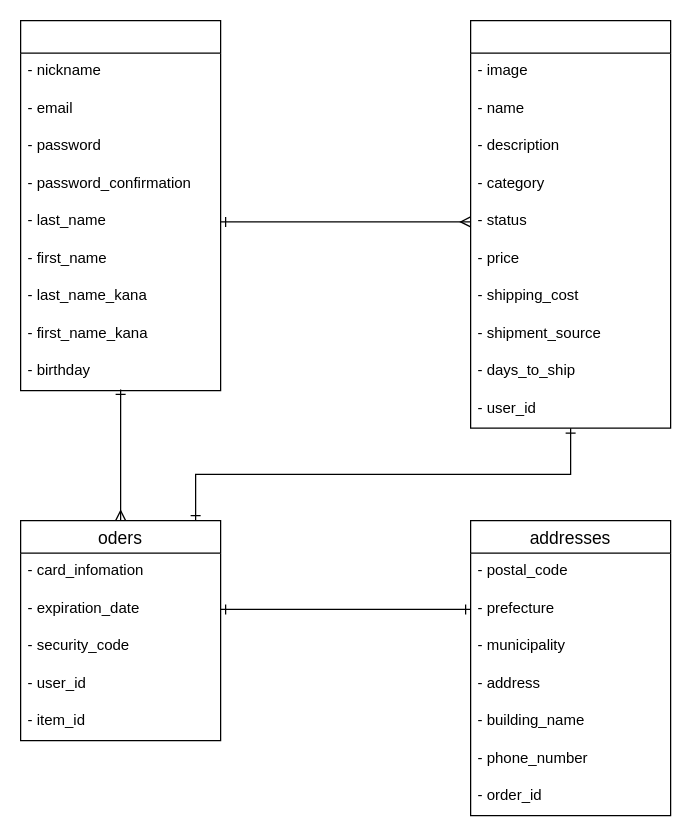
Image size: 691x836. Some labels were removed from this diagram. Each missing label, with the box of its shape:
items: (469, 19, 671, 428)
users: (19, 19, 221, 391)
